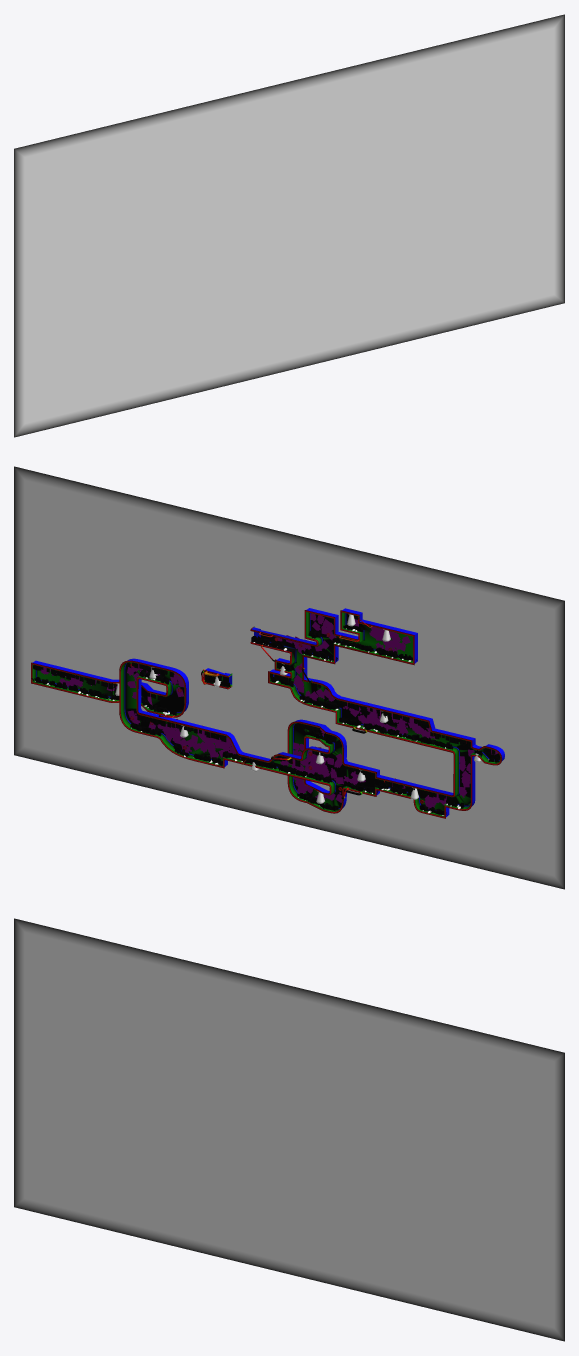
The model's file is lvlmodel_introv2.fbx.
3 views of the same model, one above another, from view 1: azimuth 30°, elevation 25°; view 2: azimuth 150°, elevation 25°; view 3: azimuth 330°, elevation 25° (orthographic).
Parts seen in each view (by area): view 1: model_geometry; view 2: model_geometry; view 3: model_geometry.
Part boxes in pixels (bbox=[...]): model_geometry: bbox=[14, 14, 564, 437]; model_geometry: bbox=[14, 466, 564, 889]; model_geometry: bbox=[14, 918, 564, 1341].
Size of what is drawn, in the model's own units: 22122 by 11079 by 1762.
